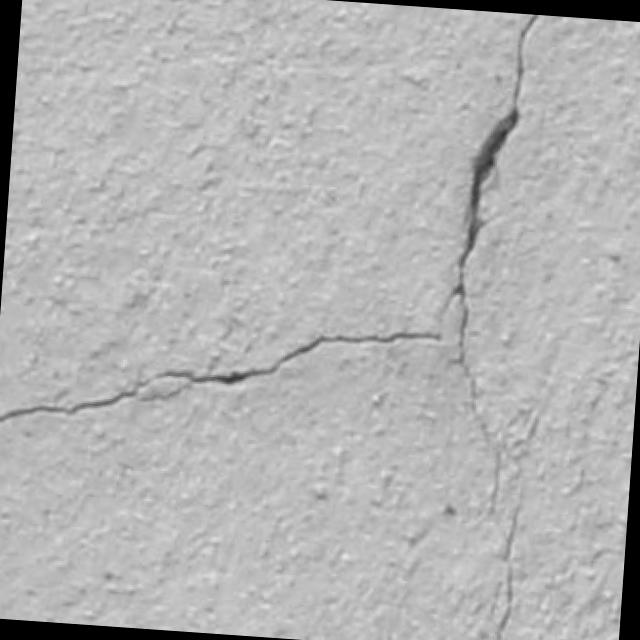crack: (441, 15, 538, 511), (0, 330, 441, 423), (0, 332, 439, 423), (446, 15, 536, 369), (492, 496, 521, 639)
